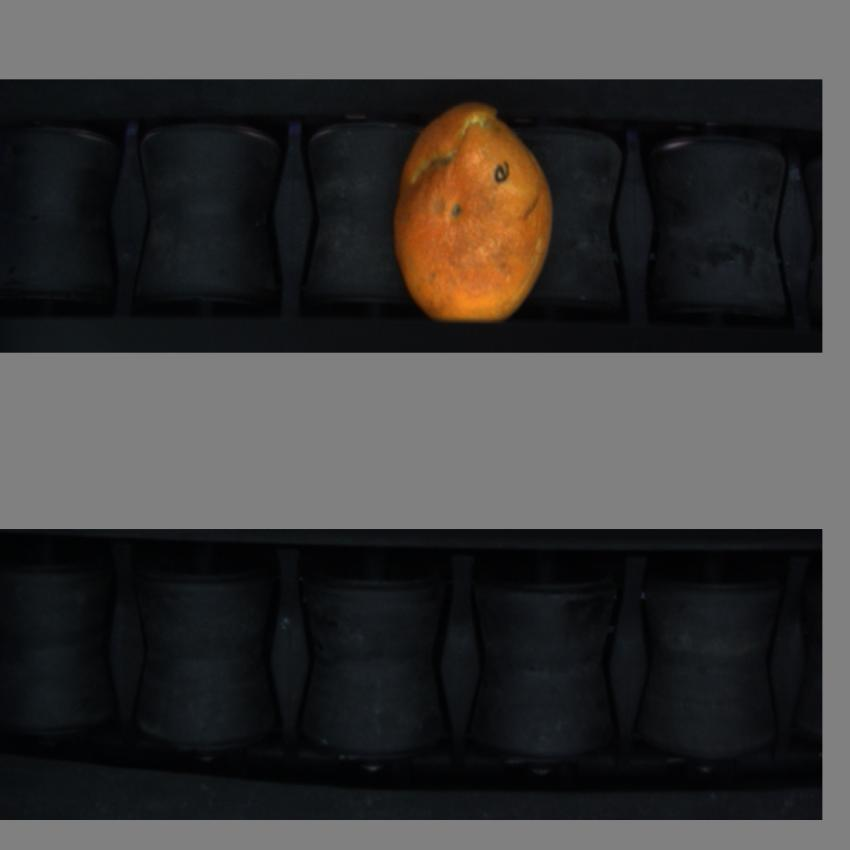Mal estado: (391, 98, 557, 326)
